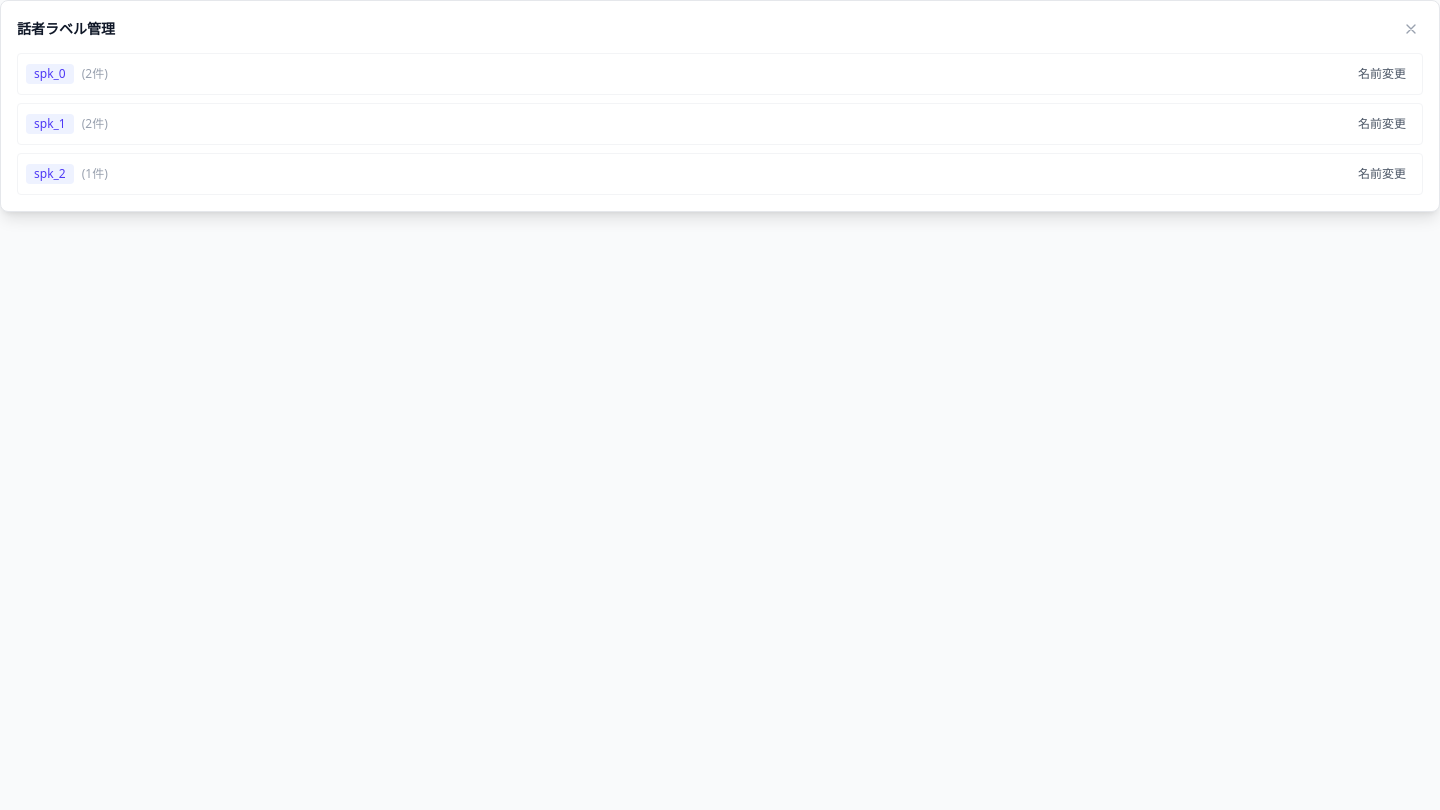
Test: SpeakerLabelManager › ラベル名変更 (Requirement 2.14) › shows input field when rename button is clicked
Click the button with aria-label "spk_0 の名前変更": (1382, 74) [1350,62,1414,86]
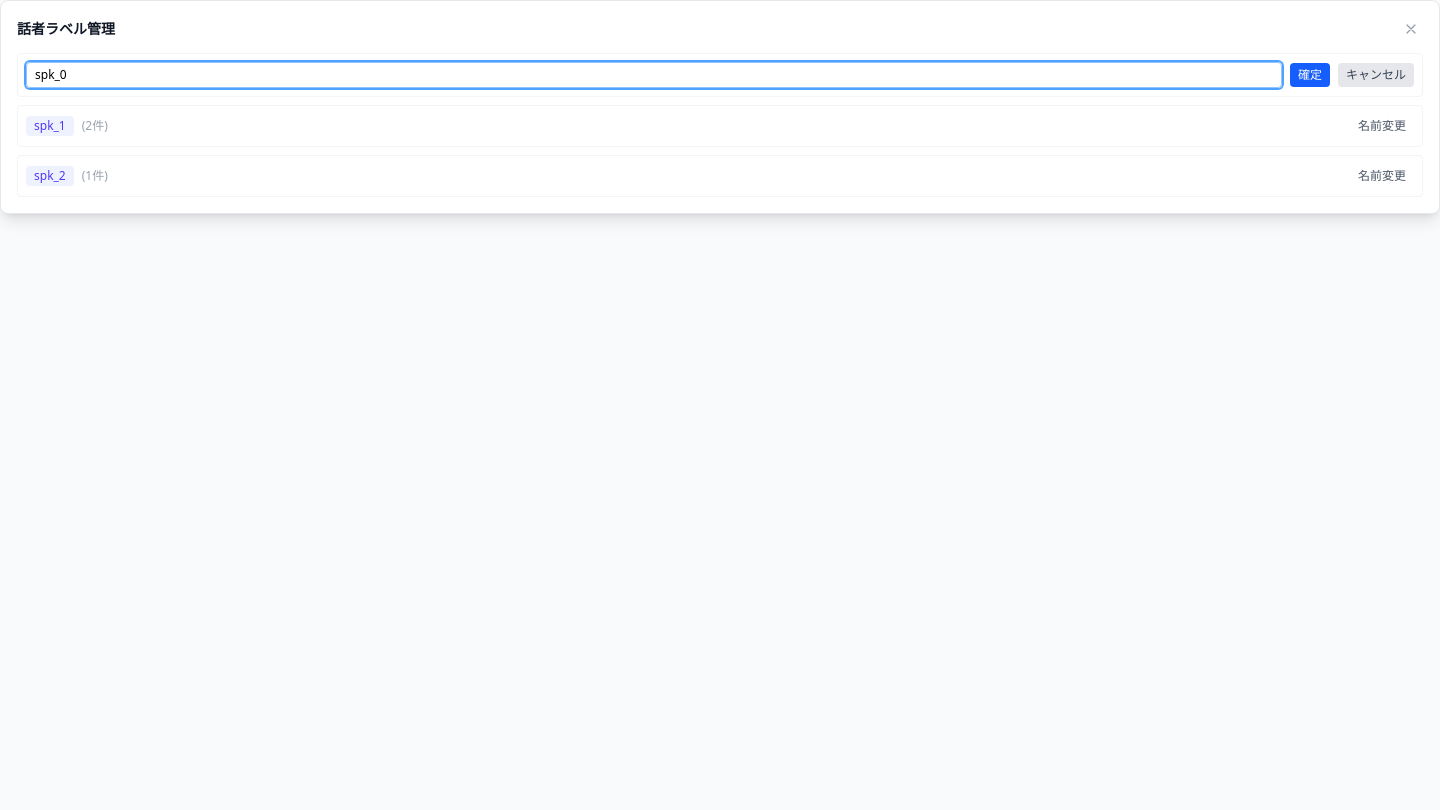
Expected: the field named "spk_0 の新しいラベル名" is shown, [26,62,1282,88]
